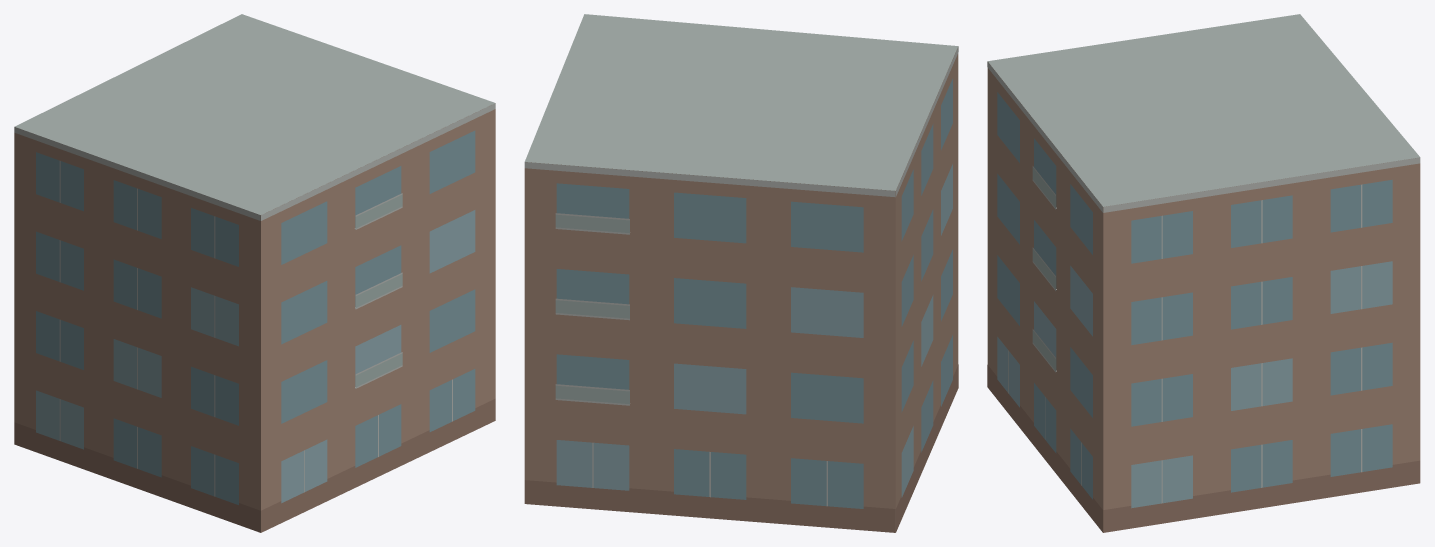
The model's file is survey-upis-33029427.glb.
The picture shows the model from 3 angles, left to right: view 1: azimuth 30°, elevation 25°; view 2: azimuth 150°, elevation 25°; view 3: azimuth 270°, elevation 25°; orthographic projection. The views are drawn at different scales.
Visible parts, largest first — view 1: survey-upis-33029427.tmp; view 2: survey-upis-33029427.tmp; view 3: survey-upis-33029427.tmp.
Part boxes in pixels (bbox=[...]): survey-upis-33029427.tmp: bbox=[14, 14, 495, 532]; survey-upis-33029427.tmp: bbox=[524, 14, 958, 532]; survey-upis-33029427.tmp: bbox=[987, 14, 1420, 532].
Size of the model in its own units: 16.64 by 13.1 by 15.78.
